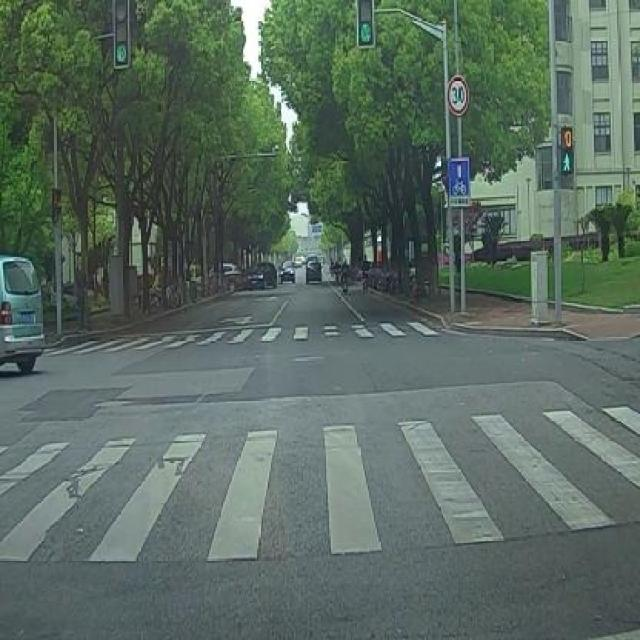forb_speed_over_30: (445, 73, 469, 113)
